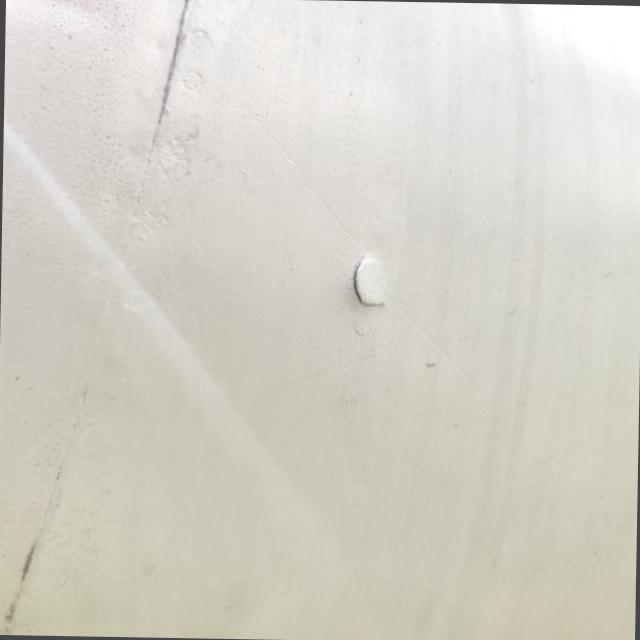crack: (322, 240, 419, 330)
